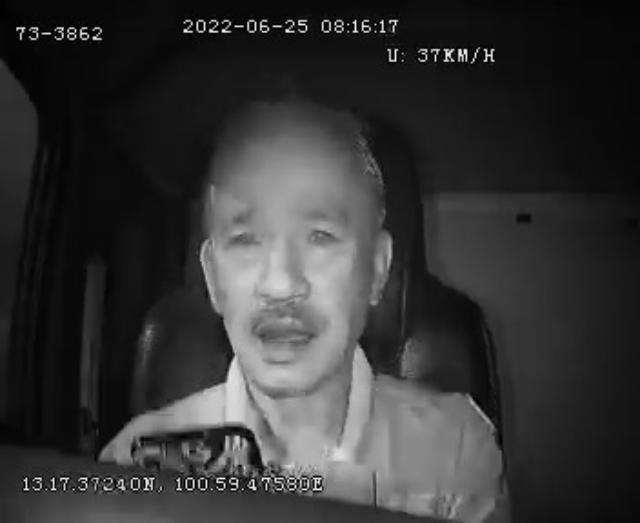PhoneUse: (132, 424, 264, 476)
SafeDriving: (216, 212, 272, 262), (298, 208, 347, 252)
